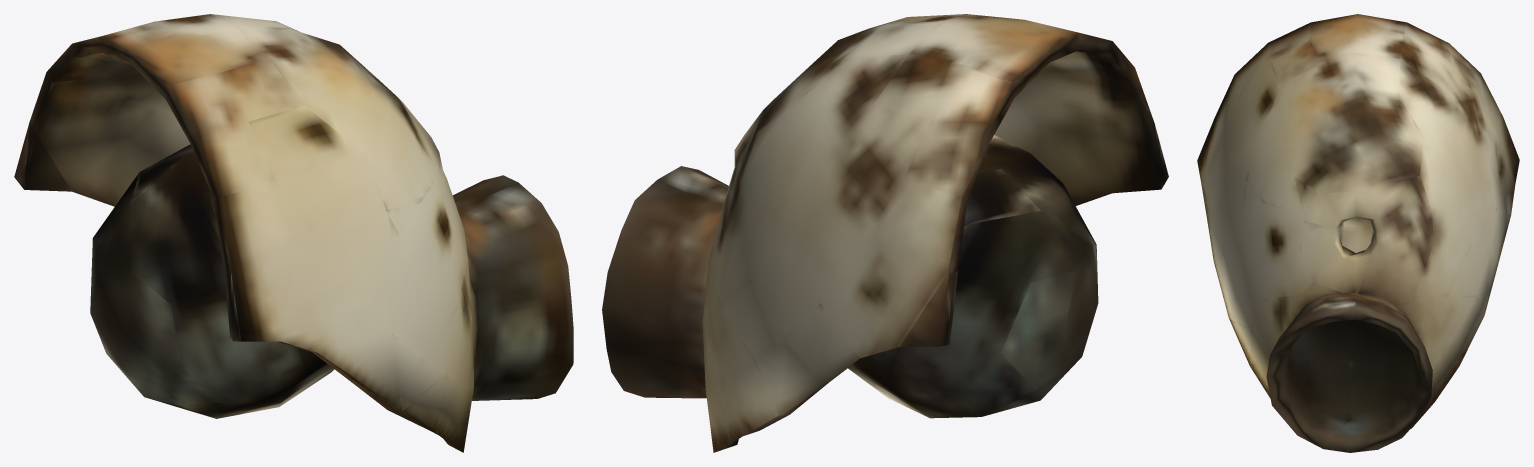
Rendered from shoulder-ivory.glb.
3 views of the same model, side by side, from view 1: azimuth 30°, elevation 25°; view 2: azimuth 150°, elevation 25°; view 3: azimuth 270°, elevation 25° (orthographic). The views are drawn at different scales.
Visible parts, largest first — view 1: shoulder-ivory; view 2: shoulder-ivory; view 3: shoulder-ivory.
Part boxes in pixels (box(x1,y1,x2,y2)): shoulder-ivory: box(14, 14, 573, 452); shoulder-ivory: box(602, 14, 1168, 452); shoulder-ivory: box(1197, 14, 1519, 452).
Size of the model in its own units: 0.4688 by 0.4932 by 0.4385.
1 material, 1 textured.
